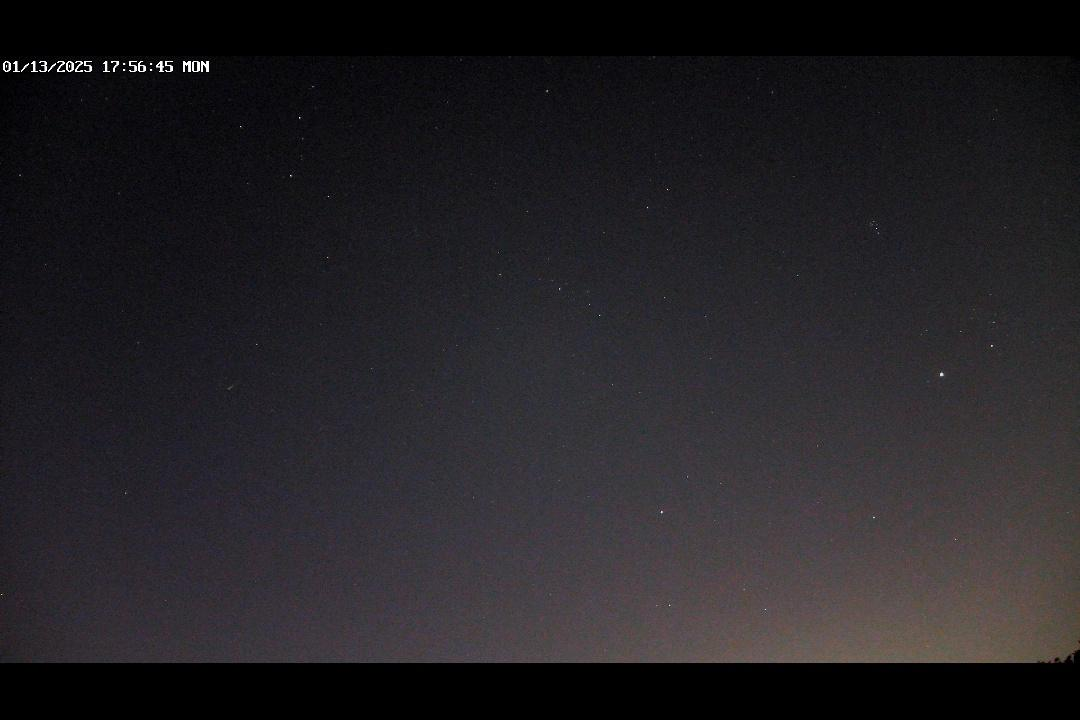Plane: (215, 372, 251, 394)
